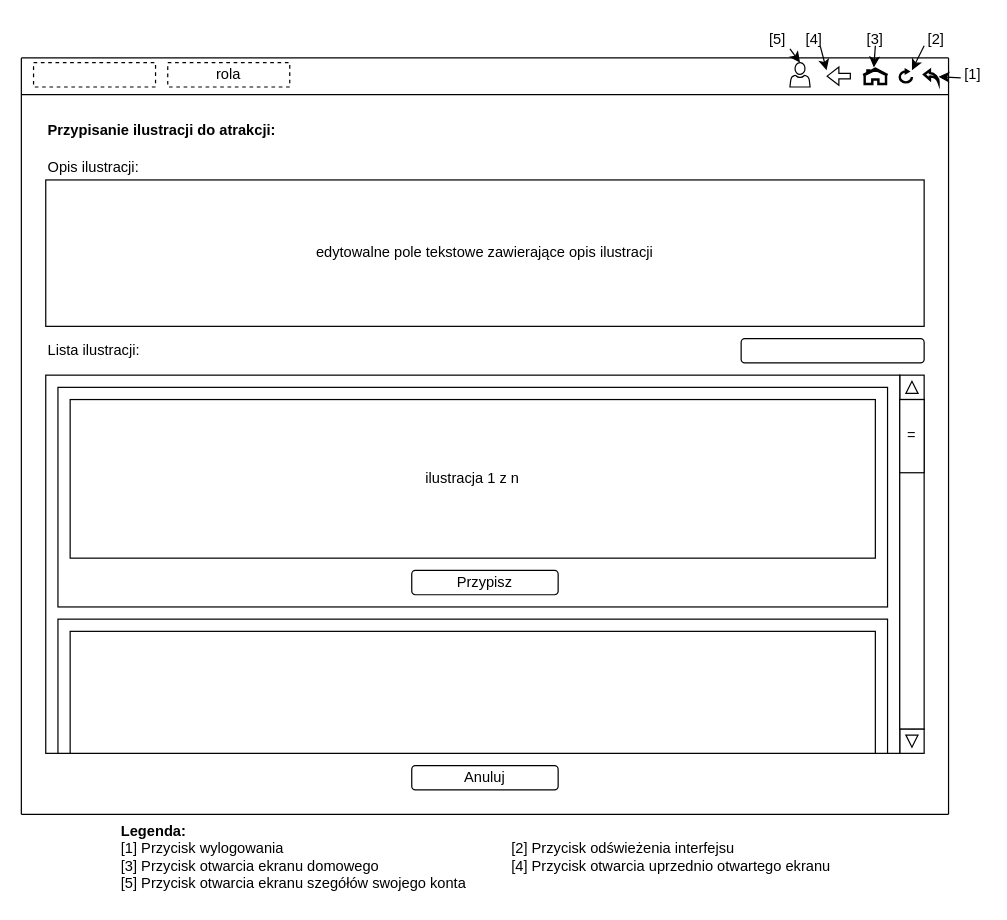
Image size: 1007x920. Some labels were removed from this diagram. Here are the shapes that lost their labels. From the top down, the centre of each, then its label:
At point 94,74: "login".
At point 832,350: "Przypisz nową ilustrację".
At point 472,691: "ilustracja 2 z n".
